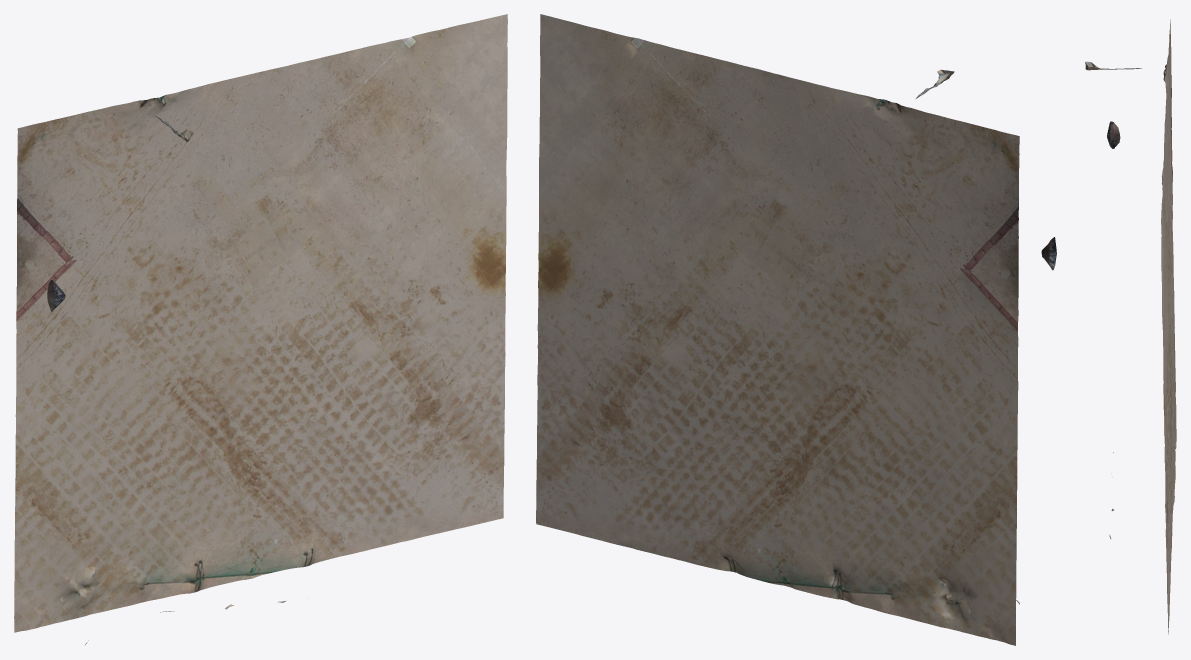
File: Tile_+019_+015.fbx
The picture shows the model from 3 angles, left to right: view 1: azimuth 30°, elevation 25°; view 2: azimuth 150°, elevation 25°; view 3: azimuth 270°, elevation 25°; orthographic projection. The views are drawn at different scales.
Parts seen in each view (by area): view 1: DefaultName; view 2: DefaultName; view 3: DefaultName.
Boxes of the visible parts, bbox=[...] form: DefaultName: bbox=[14, 14, 507, 644]; DefaultName: bbox=[536, 14, 1056, 645]; DefaultName: bbox=[1085, 19, 1176, 634].
Size of the model in its own units: 22.54 by 22.54 by 4.33.
